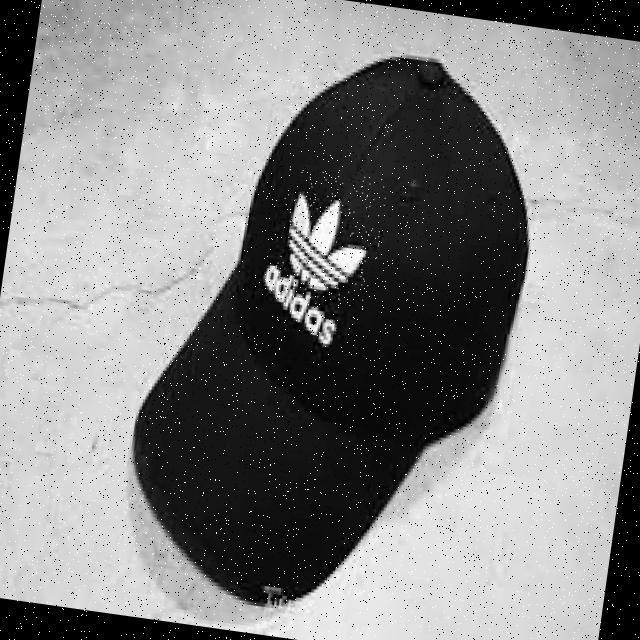Adidas: (271, 166, 389, 312)
